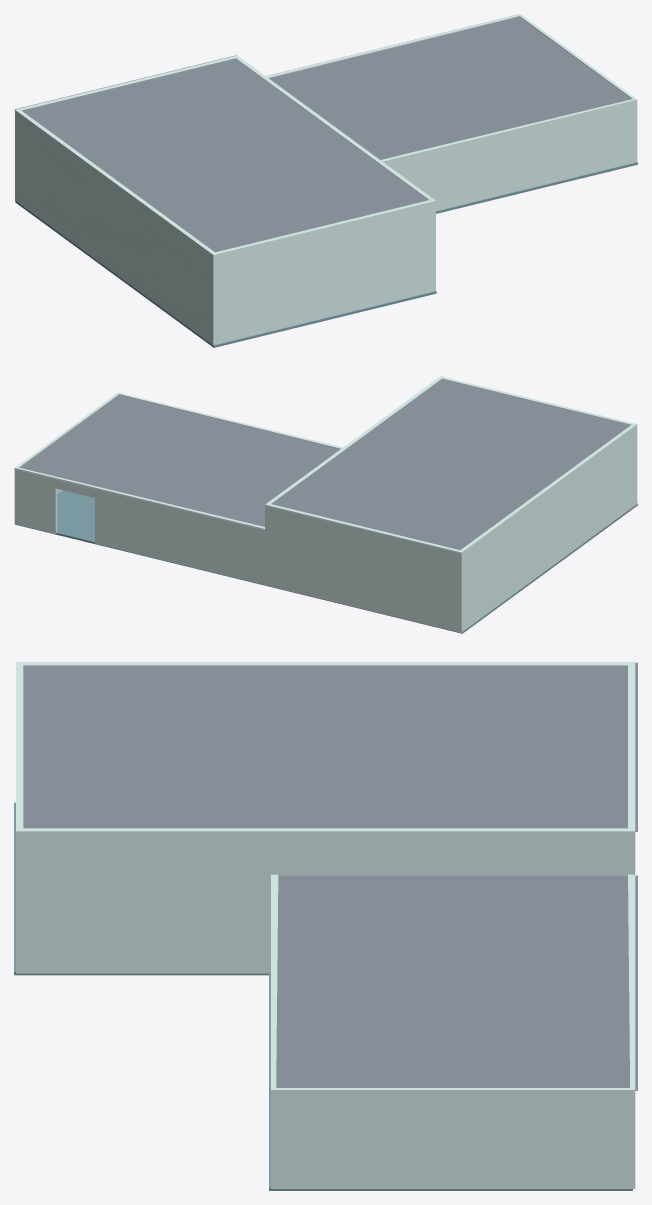
Rendered from ServerRoom.fbx.
The picture shows the model from 3 angles, top to bottom: view 1: azimuth 30°, elevation 25°; view 2: azimuth 150°, elevation 25°; view 3: azimuth 270°, elevation 25°; orthographic projection. The views are drawn at different scales.
Visible parts, largest first — view 1: Walls, Cealing.001, Cealing.002, Floor; view 2: Walls, Cealing.001, Cealing.002, Floor; view 3: Cealing.001, Walls, Cealing.002, Floor.
Part boxes in pixels (x1,y1,x2,y2): Walls: (15, 14, 637, 345); Cealing.001: (14, 55, 428, 252); Cealing.002: (268, 14, 631, 159); Floor: (15, 162, 637, 347); Walls: (14, 376, 637, 633); Cealing.001: (264, 379, 630, 553); Cealing.002: (14, 395, 339, 529); Floor: (15, 490, 637, 633); Cealing.001: (23, 662, 637, 831); Walls: (16, 662, 635, 1188); Cealing.002: (276, 875, 637, 1090); Floor: (14, 802, 632, 1190).
Size of the model in its own units: 2501 by 436 by 1713.
